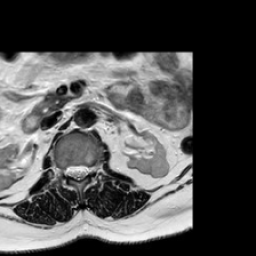CCS_normal: (74, 156, 81, 188)
LFS_normal: (88, 157, 96, 179)
LLS_normal: (81, 157, 88, 182)
RFS_normal: (59, 158, 66, 182)
RLS_normal: (66, 157, 74, 183)
